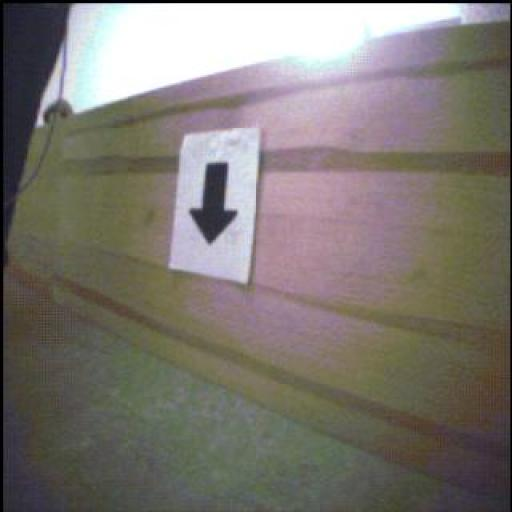Arrow: (191, 164, 238, 244)
